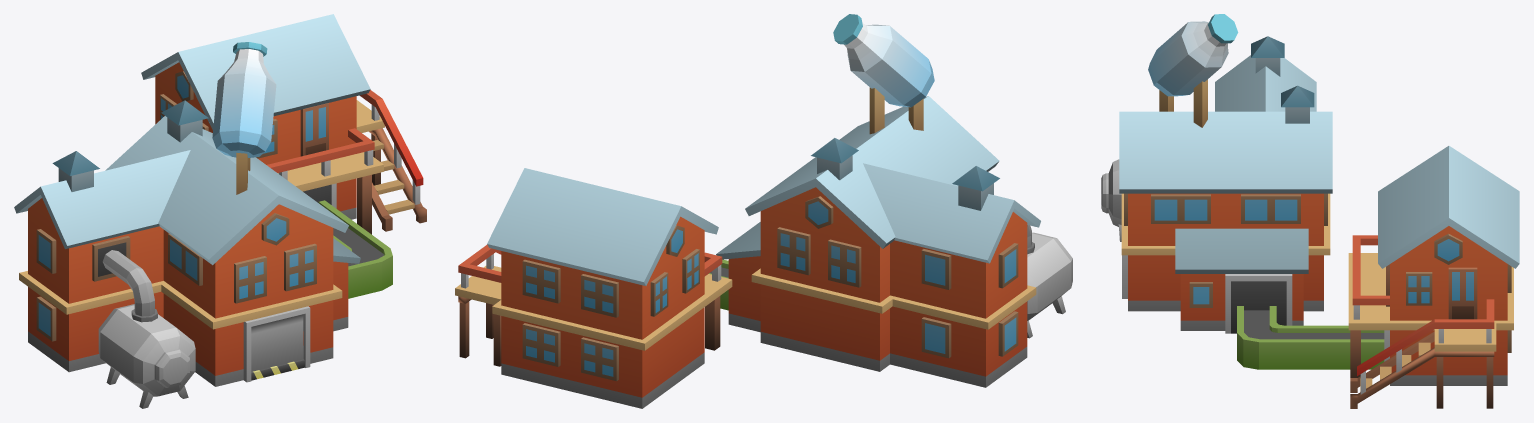
File: milk plant house.fbx
3 views of the same model, side by side, from view 1: azimuth 30°, elevation 25°; view 2: azimuth 150°, elevation 25°; view 3: azimuth 270°, elevation 25° (orthographic). The views are drawn at different scales.
Visible parts, largest first — view 1: milk_plant_house; view 2: milk_plant_house; view 3: milk_plant_house.
Part boxes in pixels (x1,y1,x2,y2): milk_plant_house: (14,14,426,408); milk_plant_house: (455,14,1072,408); milk_plant_house: (1101,14,1519,408).
Bounding box in the file's own units: 1691 × 1092 × 1485.
Materials: 1 (1 with a texture image).
